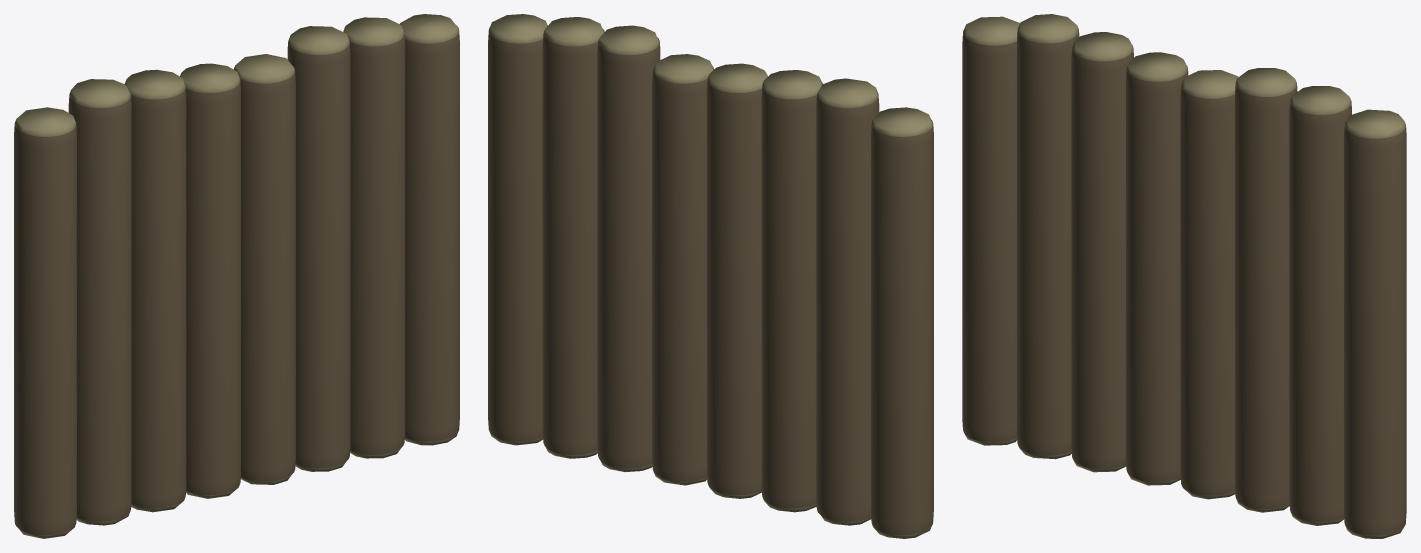
Rendered from wall_square.fbx.
The picture shows the model from 3 angles, left to right: view 1: azimuth 30°, elevation 25°; view 2: azimuth 150°, elevation 25°; view 3: azimuth 330°, elevation 25°; orthographic projection.
Parts seen in each view (by area): view 1: Cylinder; view 2: Cylinder; view 3: Cylinder.
Boxes of the visible parts, box(x1,y1,x2,y2) form: Cylinder: box(14, 14, 459, 538); Cylinder: box(488, 14, 933, 538); Cylinder: box(962, 14, 1406, 538).
Bounding box in the file's own units: 1388 × 1281 × 174.
